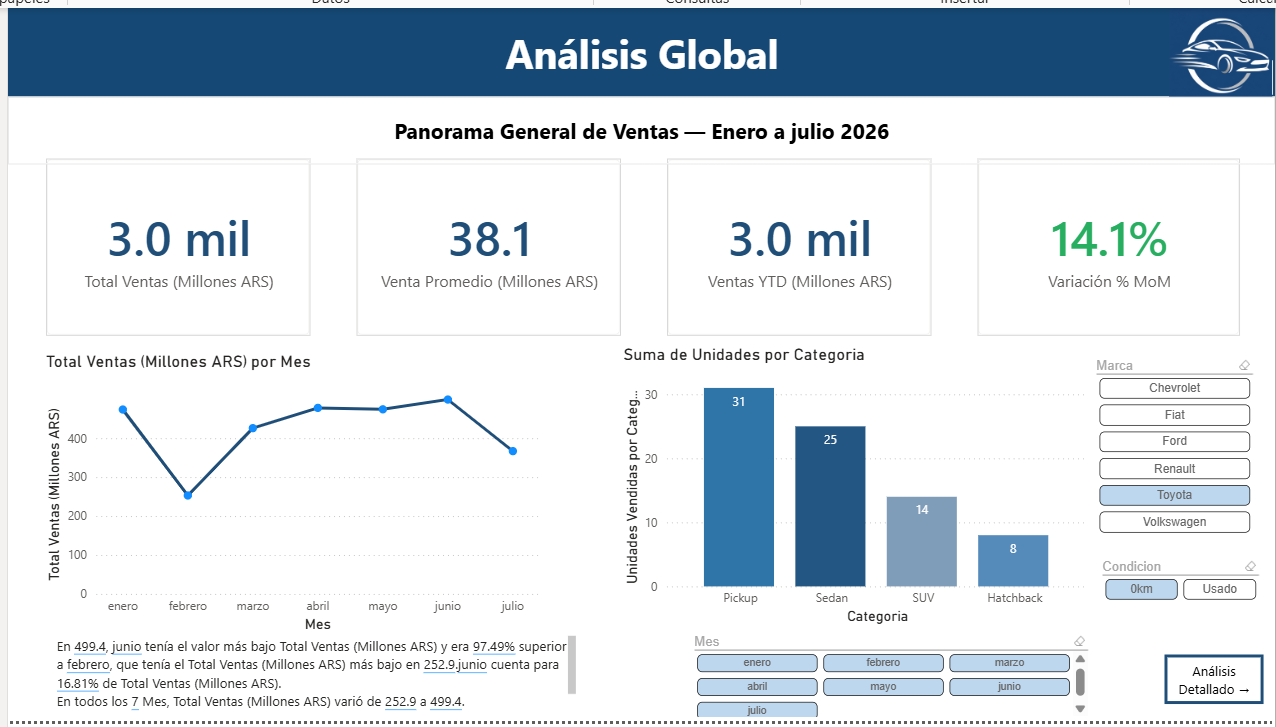

The page's visual inventory and layout, read from the dashboard file:
{"tool":"powerbi","page":{"name":"Análisis Global","canvas":[1280,720],"ordinal":1},"visuals":[{"type":"actionButton","box":[1168,652,100,50],"z":0},{"type":"cardVisual","fields":{"Data":["Medidas.Total Ventas"]},"box":[21.2,134.8,301.3,213.5],"z":1000},{"type":"cardVisual","fields":{"Data":["Medidas.Venta Promedio"]},"box":[334.6,134.8,301.3,213.5],"z":2000},{"type":"cardVisual","fields":{"Data":["Medidas.Ventas YTD"]},"box":[648.1,134.8,301.3,213.5],"z":3000},{"type":"cardVisual","fields":{"Data":["Medidas.Variación % MoM"]},"box":[961.5,134.8,299.8,213.5],"z":4000},{"type":"shape","box":[0,0,1280,90],"z":5000},{"type":"shape","box":[0,90,1280,68],"z":6000},{"type":"lineChart","fields":{"Category":["Calendario.Mes"],"Y":["Medidas.Total Ventas (Millones ARS)"]},"box":[33.3,346.8,507.3,287.7],"z":7000},{"type":"clusteredColumnChart","fields":{"Category":["Autos.Categoria"],"Y":["Sum(Ventas.Unidades)"]},"box":[616.3,339.2,478.5,287.7],"z":8000},{"type":"image","box":[1171,0,109,89.3],"z":9000},{"type":"textbox","box":[43.9,628.4,534.5,90.9],"z":10000},{"type":"ChicletSlicer1448559807354","fields":{"Category":["Calendario.Mes"]},"box":[687.4,626.9,407.3,92.4],"z":12001},{"type":"ChicletSlicer1448559807354","fields":{"Category":["Autos.Marca"]},"box":[1093.3,348.3,168.1,192.3],"z":12002},{"type":"ChicletSlicer1448559807354","fields":{"Category":["Autos.Condicion"]},"box":[1099.3,551.2,168.1,57.5],"z":12003}]}

Visuals, with their boxes on the page's 1280x720 design canvas (x1, y1, x2, y2). These are canvas units, not pixel positions in the 1276x727 screenshot, which may show the page scaled, cropped or inside an application window:
actionButton: [x1=1168, y1=652, x2=1268, y2=702]
cardVisual - Medidas.Total Ventas: [x1=21, y1=135, x2=322, y2=348]
cardVisual - Medidas.Venta Promedio: [x1=335, y1=135, x2=636, y2=348]
cardVisual - Medidas.Ventas YTD: [x1=648, y1=135, x2=949, y2=348]
cardVisual - Medidas.Variación % MoM: [x1=962, y1=135, x2=1261, y2=348]
shape: [x1=0, y1=0, x2=1280, y2=90]
shape: [x1=0, y1=90, x2=1280, y2=158]
lineChart - Calendario.Mes x Medidas.Total Ventas (Millones ARS): [x1=33, y1=347, x2=541, y2=634]
clusteredColumnChart - Autos.Categoria x Sum(Ventas.Unidades): [x1=616, y1=339, x2=1095, y2=627]
image: [x1=1171, y1=0, x2=1280, y2=89]
textbox: [x1=44, y1=628, x2=578, y2=719]
ChicletSlicer1448559807354 - Calendario.Mes: [x1=687, y1=627, x2=1095, y2=719]
ChicletSlicer1448559807354 - Autos.Marca: [x1=1093, y1=348, x2=1261, y2=541]
ChicletSlicer1448559807354 - Autos.Condicion: [x1=1099, y1=551, x2=1267, y2=609]
